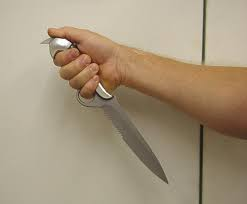weapon-unusual: (41, 30, 176, 187)
